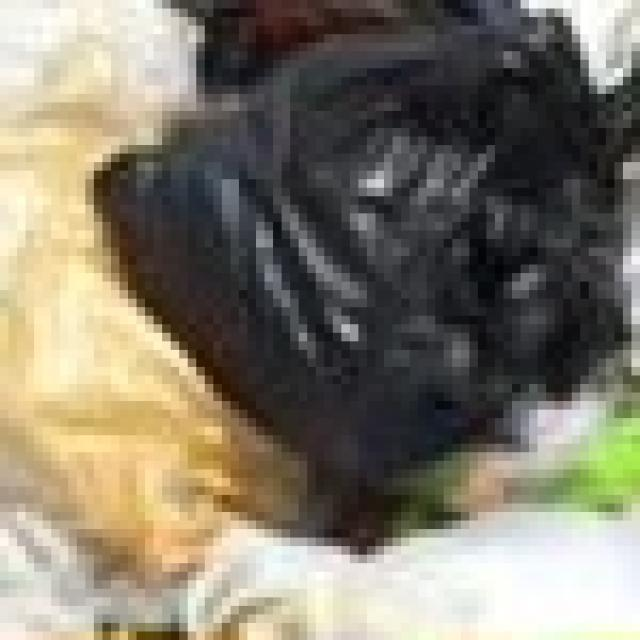plastic bag: (85, 0, 639, 503)
